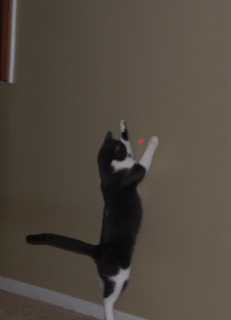Cat: (23, 117, 160, 319)
